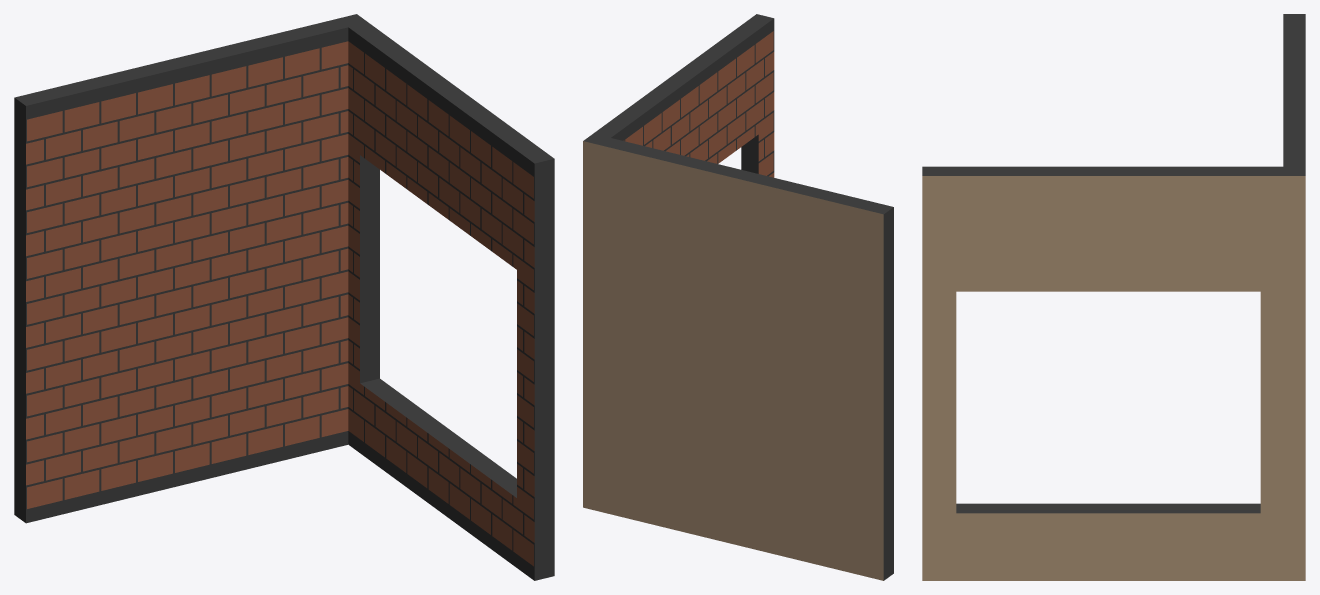
File: Wall2_C10_14.fbx
3 views of the same model, side by side, from view 1: azimuth 30°, elevation 25°; view 2: azimuth 150°, elevation 25°; view 3: azimuth 270°, elevation 25° (orthographic). The views are drawn at different scales.
Visible parts, largest first — view 1: Wall2_C10_14; view 2: Wall2_C10_14; view 3: Wall2_C10_14.
Part boxes in pixels (x1,y1,x2,y2): Wall2_C10_14: (14, 14, 554, 580); Wall2_C10_14: (583, 14, 893, 580); Wall2_C10_14: (922, 14, 1305, 580).
Bounding box in the file's own units: 258 × 300 × 258.
